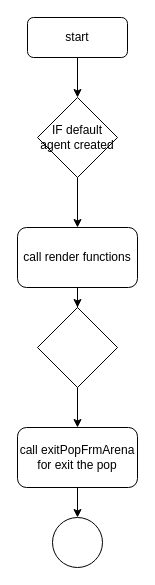
Some shapes in this 155 by 585 pixel diagram are drawn without their labels. The shapes that lost their labels are listed below. From the top down, each one's box as (x1, y1, x2, y2) in pixels, then its label:
(36, 306, 118, 388): IF people waiting to exit
(52, 516, 102, 568): end
